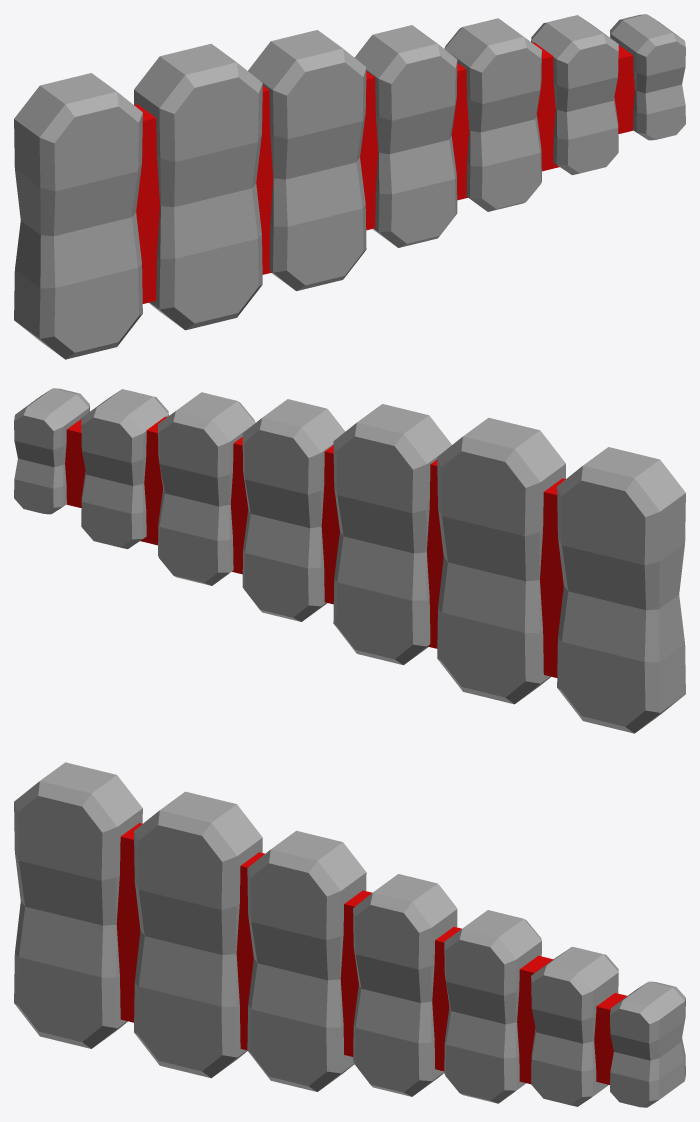
File: Snake_end.fbx
3 renders of one model, top to bottom at view 1: azimuth 30°, elevation 25°; view 2: azimuth 150°, elevation 25°; view 3: azimuth 330°, elevation 25°, orthographic.
Visible parts, largest first — view 1: pCube14; view 2: pCube14; view 3: pCube14.
Boxes of the visible parts, box(x1,y1,x2,y2) form: pCube14: box(14, 14, 685, 359); pCube14: box(14, 388, 685, 733); pCube14: box(14, 762, 685, 1107).
Bounding box in the file's own units: 10.21 × 3.86 × 1.
